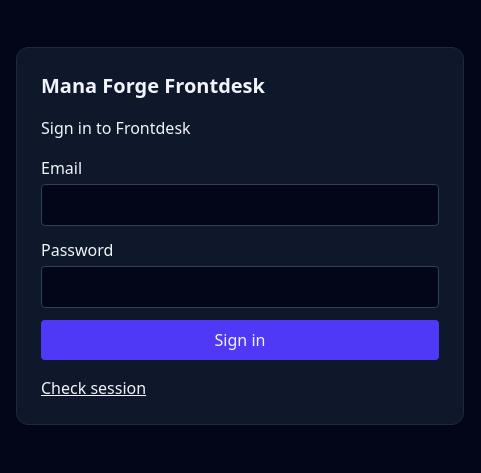
Operator sign-in › never draws a QR for something which is not an authenticator link
In the field labelled "Email": (240, 205) 41,184 -> 439,226, type "op@example.com"
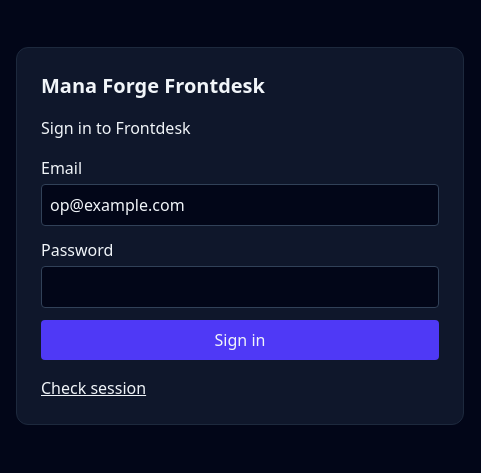
In the password field labelled "Password": (240, 287) 41,266 -> 439,308, type "right-password"
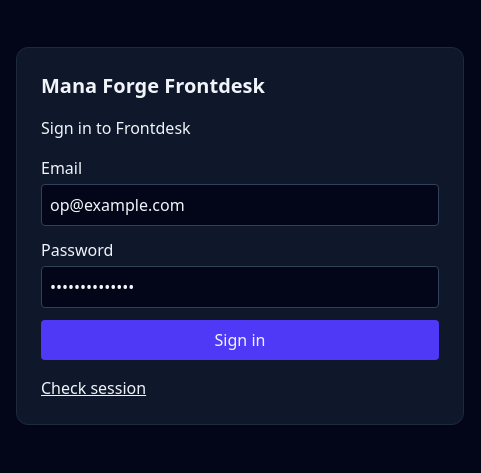
Click the button "Sign in": (240, 340) 41,320 -> 439,360
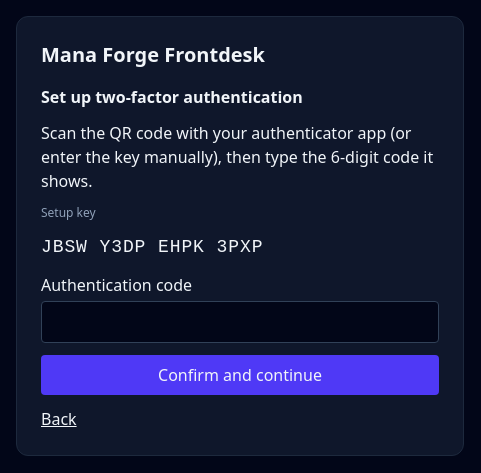
Result: the text "JBSW Y3DP EHPK 3PXP" is shown at 41,237 -> 263,257
